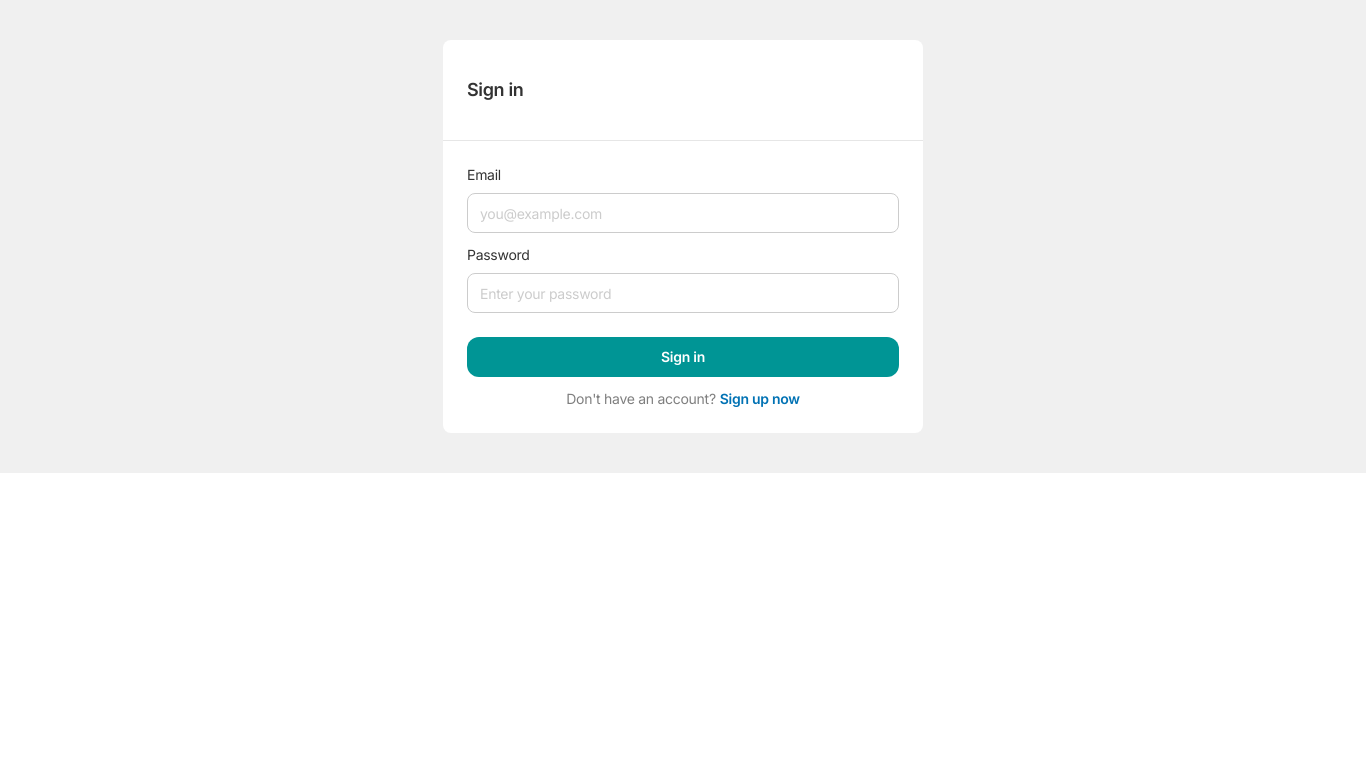
Test case: LoginForm › shows required field errors when submitted empty
This screenshot has width=1366, height=768.
Click the button "Sign in": {"x": 683, "y": 357} [467,337,899,377]
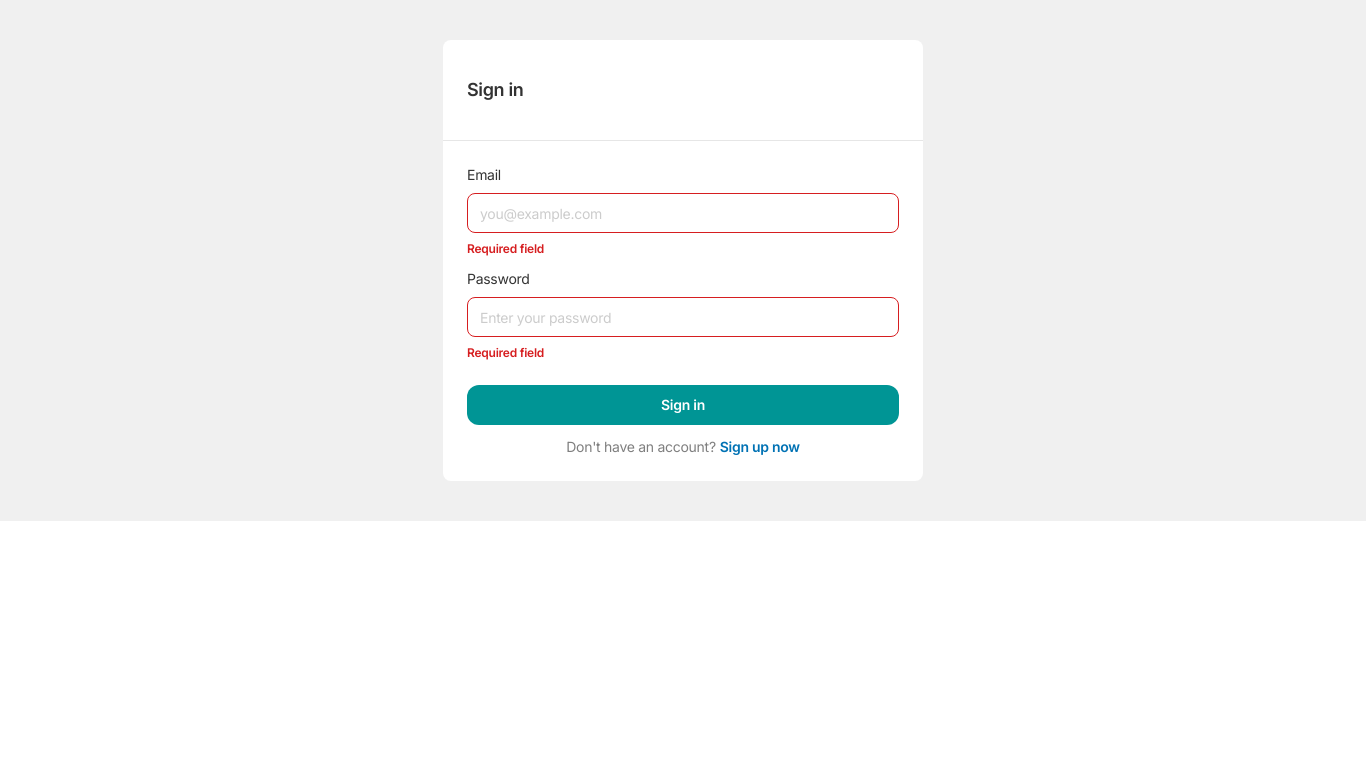
Expected: the number of messages is 2, [467,241,544,256]; [467,345,544,360]
Expected: the message "Required field" below "Email" is shown, [467,241,544,256]
Expected: the message "Required field" below "Password" is shown, [467,345,544,360]
